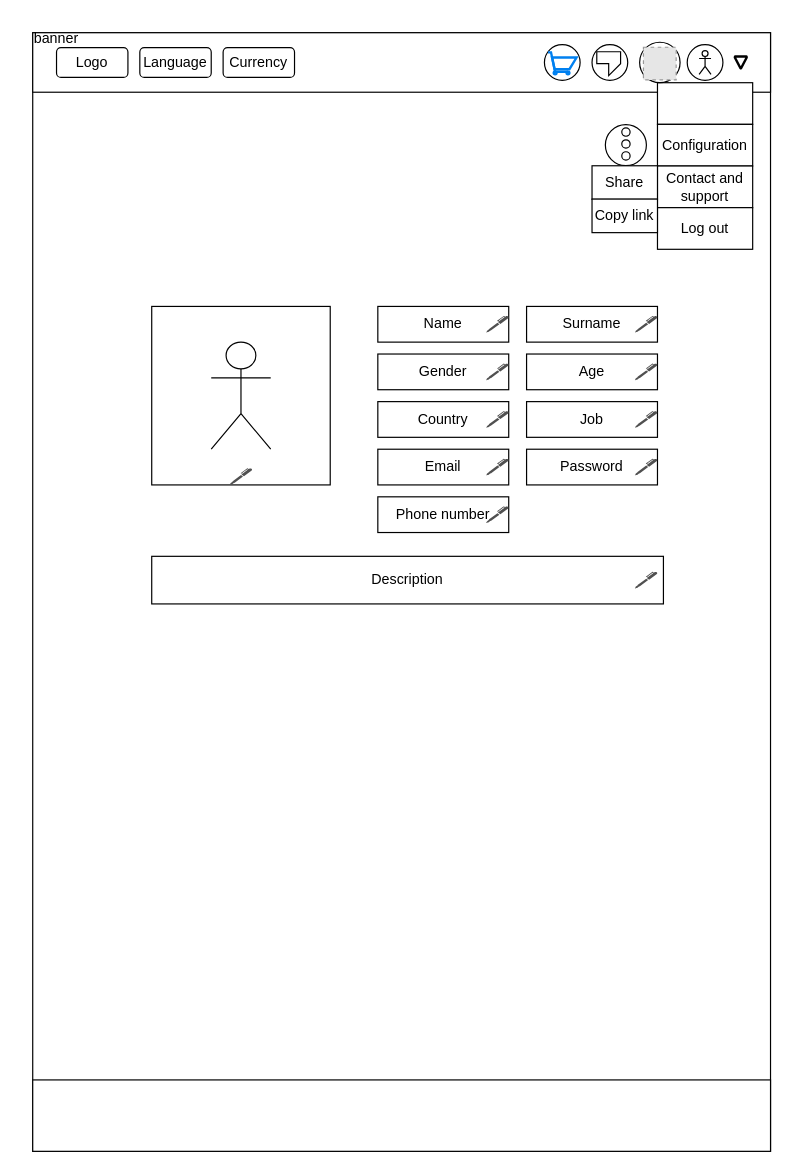
Image size: 791x1172. Some labels were removed from this diagram. Grey dashed boxes stand in for pictures. Each missing label, with the centre of its shape:
footpage: pixel 401 1115
My Profile: pixel 704 103
